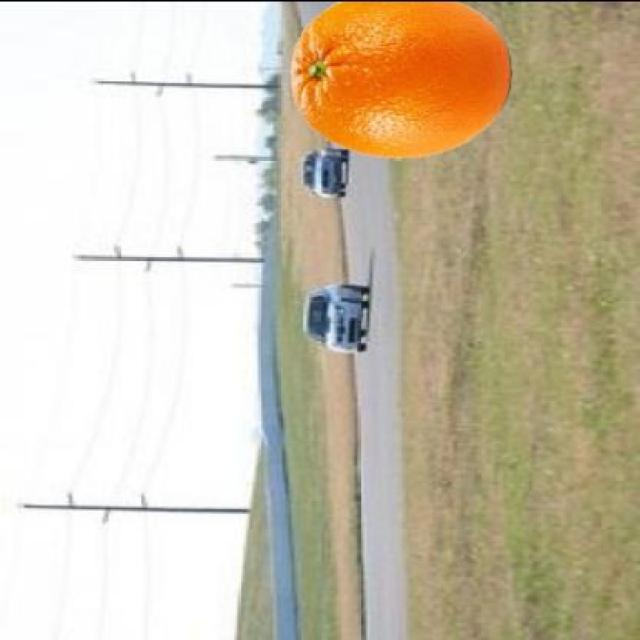Orange: (288, 0, 512, 160)
